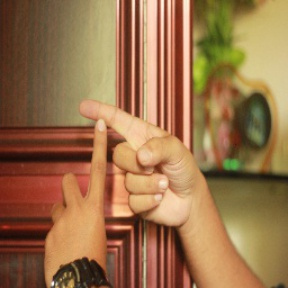T: (46, 93, 174, 231)
